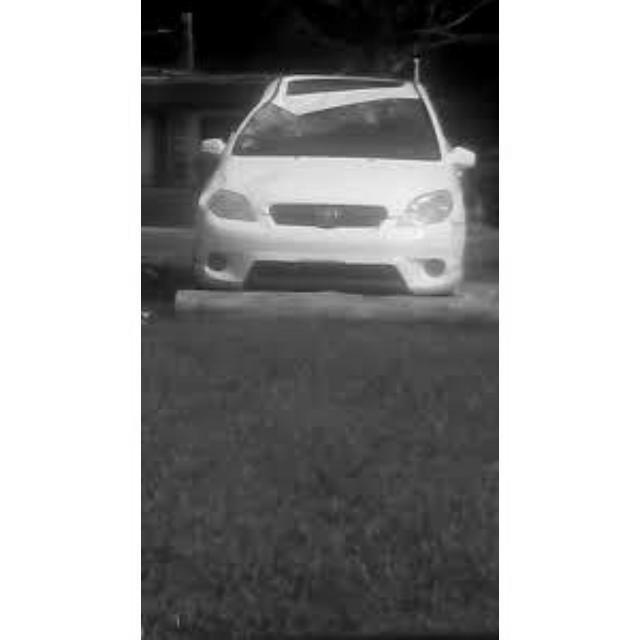roof-dent: (229, 67, 446, 124)
